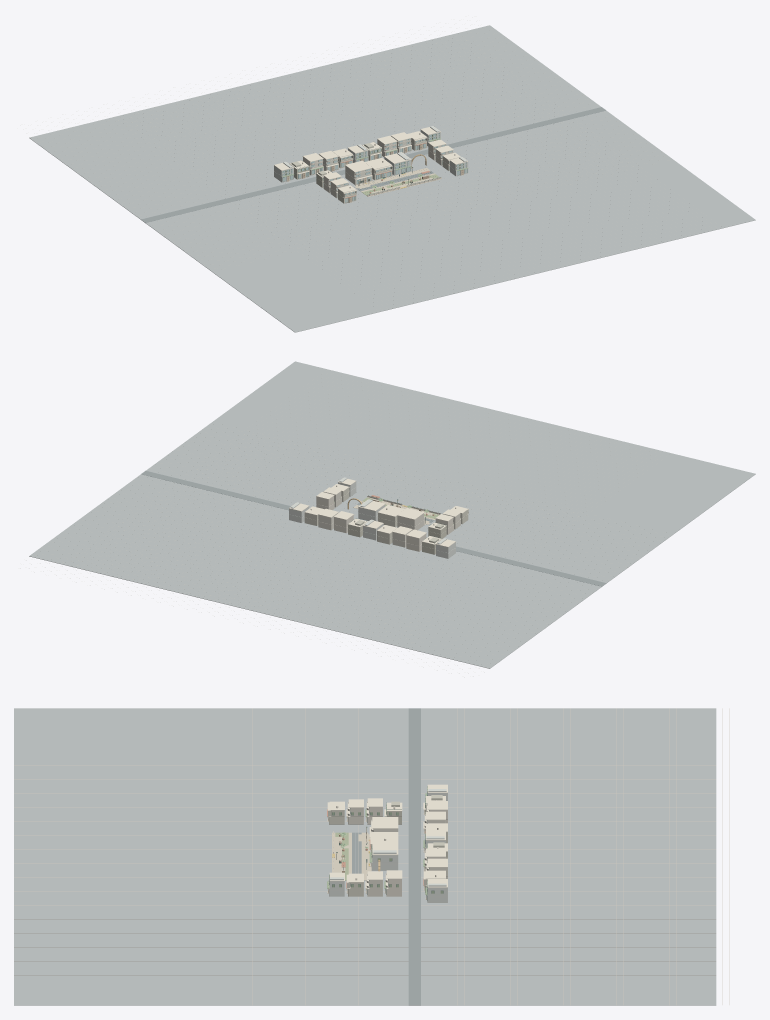
Rendered from room.glb.
3 views of the same model, one above another, from view 1: azimuth 30°, elevation 25°; view 2: azimuth 150°, elevation 25°; view 3: azimuth 270°, elevation 25° (orthographic). The views are drawn at different scales.
Parts seen in each view (by area): view 1: Campaign_surrounding concrete, Campaign_cream, Campaign_asphalt, Campaign_glass, Campaign_white city plaster 2, Campaign_white city plaster 0, Campaign_paving, Campaign_white city plaster 1, Campaign_white city plaster 4, Campaign_stone; view 2: Campaign_surrounding concrete, Campaign_cream, Campaign_asphalt, Campaign_white city plaster 2, Campaign_white city plaster 0, Campaign_white city plaster 4, Campaign_white city plaster 1, Campaign_white city plaster 3; view 3: Campaign_surrounding concrete, Campaign_stone, Campaign_asphalt, Campaign_cream, Campaign_white city plaster 2, Campaign_paving, Campaign_white city plaster 0, Campaign_white city plaster 4, Campaign_white city plaster 1.
Part boxes in pixels (<box>): Campaign_surrounding concrete: <box>29,25,755,332</box>; Campaign_cream: <box>274,126,467,202</box>; Campaign_asphalt: <box>141,107,605,222</box>; Campaign_glass: <box>282,133,467,202</box>; Campaign_white city plaster 2: <box>274,126,468,182</box>; Campaign_white city plaster 0: <box>319,136,453,198</box>; Campaign_paving: <box>354,168,441,196</box>; Campaign_white city plaster 1: <box>338,138,449,203</box>; Campaign_white city plaster 4: <box>303,139,445,192</box>; Campaign_stone: <box>118,40,633,244</box>; Campaign_surrounding concrete: <box>29,361,755,668</box>; Campaign_cream: <box>289,478,468,547</box>; Campaign_asphalt: <box>141,470,606,586</box>; Campaign_white city plaster 2: <box>289,477,455,558</box>; Campaign_white city plaster 0: <box>318,491,460,547</box>; Campaign_white city plaster 4: <box>316,496,453,551</box>; Campaign_white city plaster 1: <box>304,488,468,544</box>; Campaign_white city plaster 3: <box>348,520,446,554</box>; Campaign_surrounding concrete: <box>14,708,716,1005</box>; Campaign_stone: <box>14,708,729,1004</box>; Campaign_asphalt: <box>352,708,420,1005</box>; Campaign_cream: <box>327,784,447,899</box>; Campaign_white city plaster 2: <box>329,789,447,902</box>; Campaign_paving: <box>332,832,371,880</box>; Campaign_white city plaster 0: <box>347,802,447,896</box>; Campaign_white city plaster 4: <box>366,801,447,896</box>; Campaign_white city plaster 1: <box>328,810,447,896</box>.
Size of the model in its own units: 170 by 5.01 by 179.
